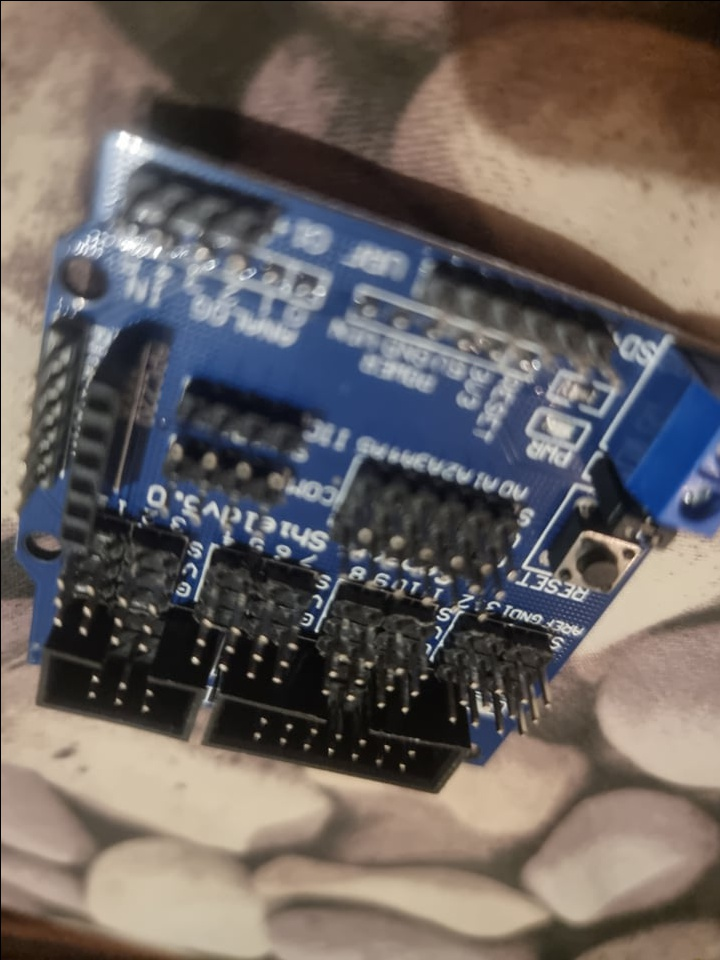5V EXPANSION: (17, 122, 719, 793)
